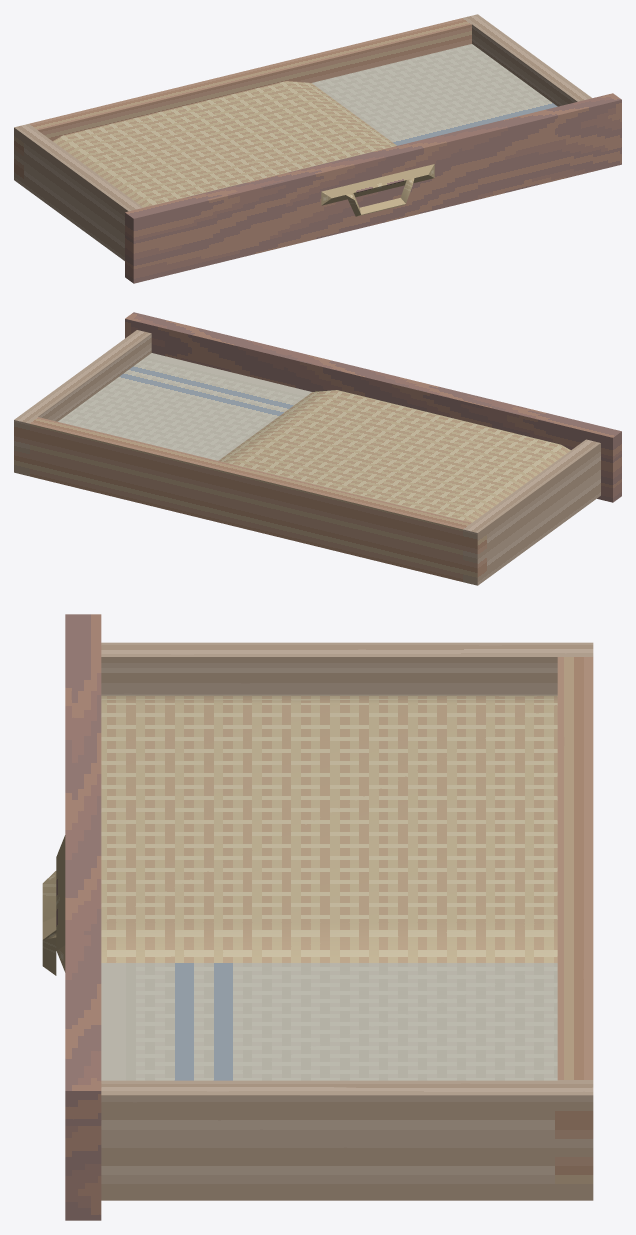
Rendered from 050d_Drawer.glb.
3 renders of one model, top to bottom at view 1: azimuth 30°, elevation 25°; view 2: azimuth 150°, elevation 25°; view 3: azimuth 270°, elevation 25°, orthographic. The views are drawn at different scales.
Parts seen in each view (by area): view 1: part_0; view 2: part_0; view 3: part_0.
Part boxes in pixels (bbox=[...]): part_0: bbox=[14, 14, 621, 283]; part_0: bbox=[14, 312, 621, 585]; part_0: bbox=[42, 614, 593, 1220].
Bounding box in the file's own units: 0.63 × 0.08 × 0.3077.
1 material, 1 textured.
